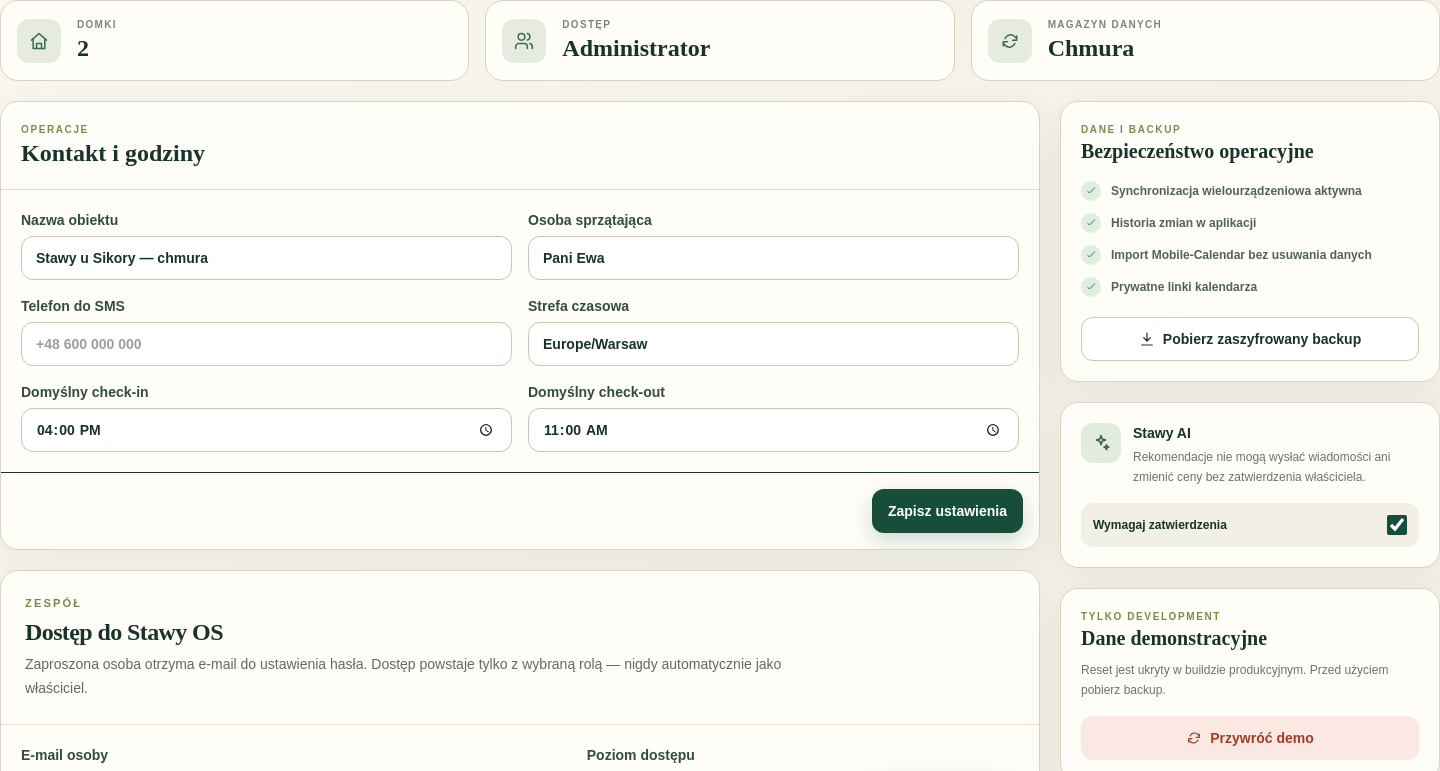
Test case: SettingsView po twardym odświeżeniu › nie montuje formularza na danych startowych i zapisuje dopiero dane z chmury
Check: the field labelled "Nazwa obiektu" holds "Stawy u Sikory — chmura", box [21,236,512,280]
Check: the text "Administrator" is shown, box [562,32,710,64]
Click the button "Zapisz ustawienia": x=948, y=511 [872,489,1023,533]
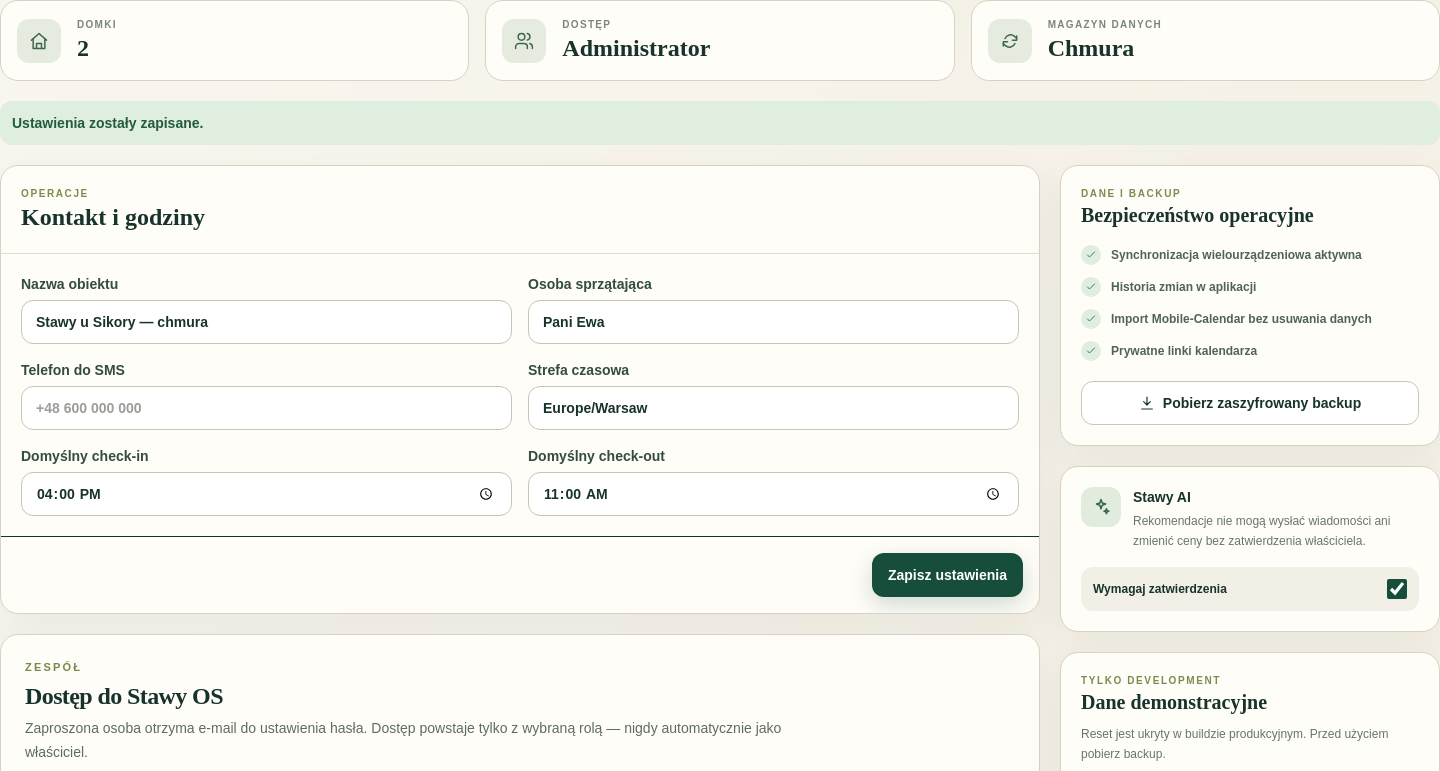
Check: the text "Ustawienia zostały zapisane." is shown, box [0,101,1439,145]
